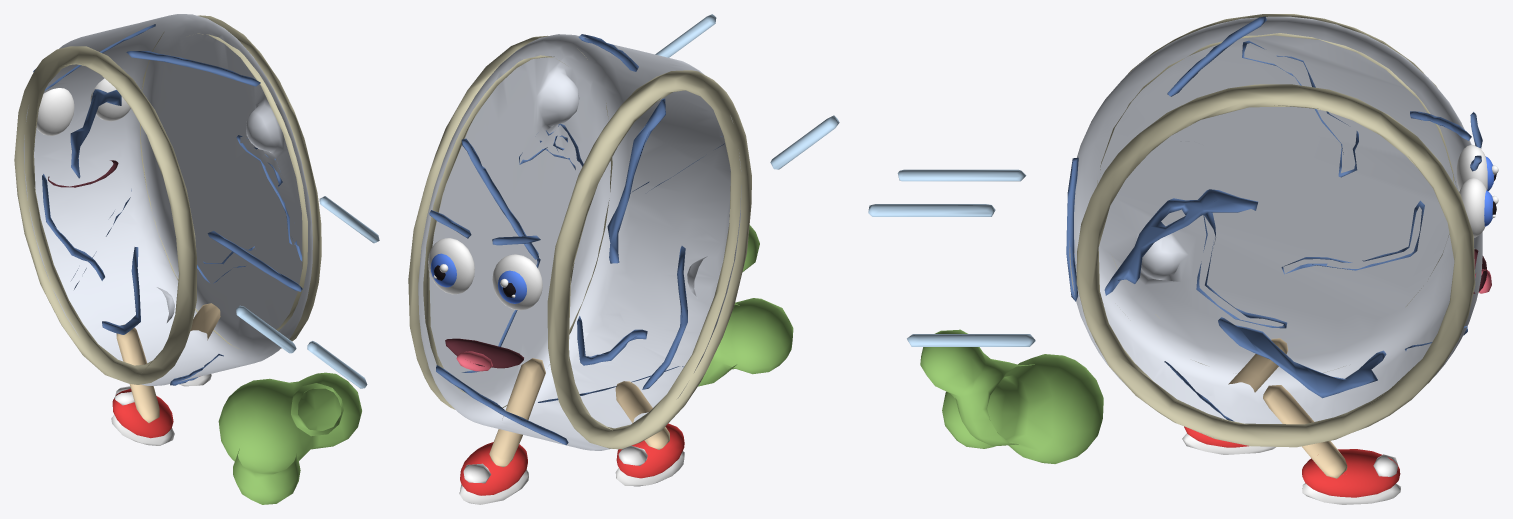
Rendered from boss_zoomzola.glb.
3 renders of one model, left to right at view 1: azimuth 30°, elevation 25°; view 2: azimuth 150°, elevation 25°; view 3: azimuth 270°, elevation 25°, orthographic. The views are drawn at different scales.
Parts seen in each view (by area): view 1: wheel, body, legFL, legFR; view 2: wheel, body, legFR, legFL; view 3: wheel, body, legFR, legFL.
Boxes of the visible parts, x1,y1,x2,y2 form: wheel: (14, 14, 321, 385); body: (33, 69, 379, 504); legFL: (111, 324, 174, 445); legFR: (179, 303, 220, 386); wheel: (408, 34, 751, 450); body: (428, 14, 839, 386); legFR: (459, 358, 545, 504); legFL: (615, 381, 684, 486); wheel: (1066, 14, 1482, 447); body: (868, 112, 1498, 463); legFR: (1263, 385, 1400, 504); legFL: (1182, 338, 1288, 454).
Size of the model in its own units: 0.9541 by 2.42 by 3.2.
Materials: 1 (1 with a texture image).
